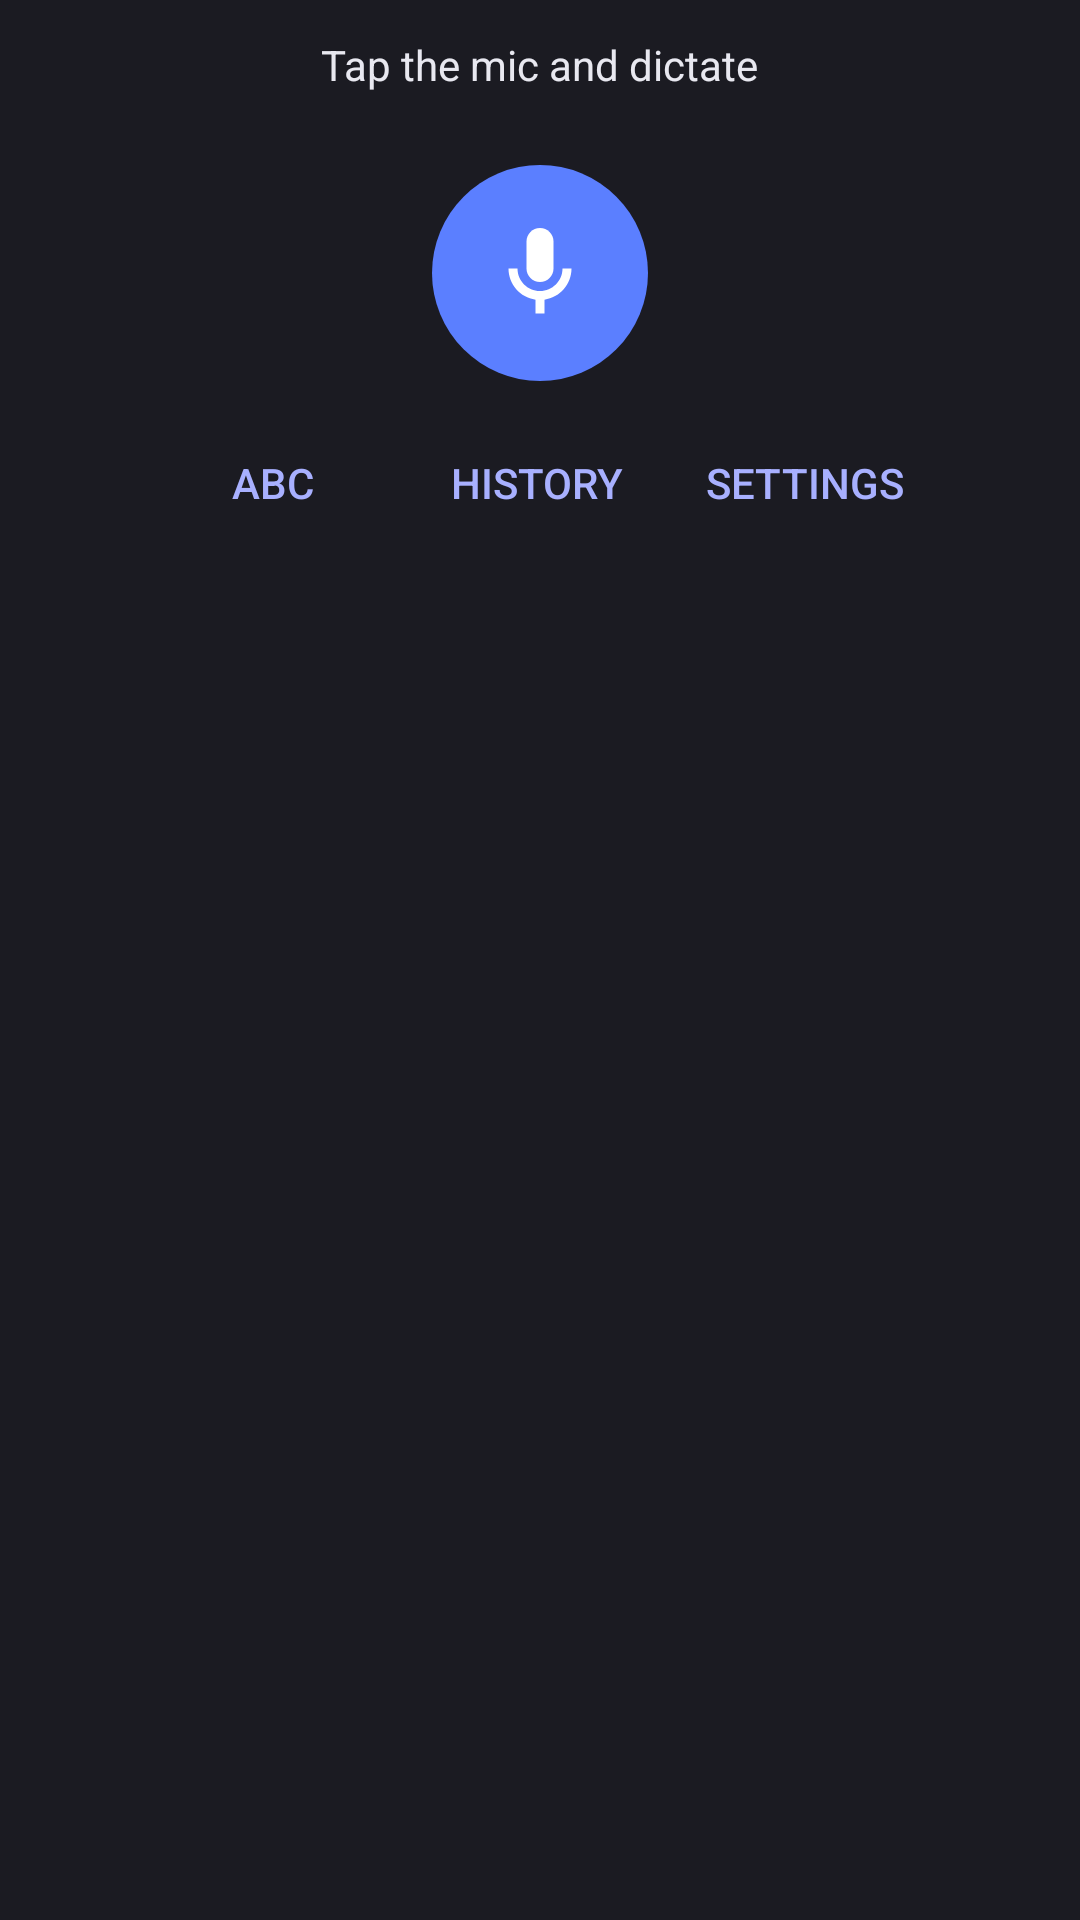

Screen size 1080w x 1920h. Icon name, then its box in pixels as (x1, y1, x2, y2):
Start or stop dictation: (432, 165, 648, 381)
